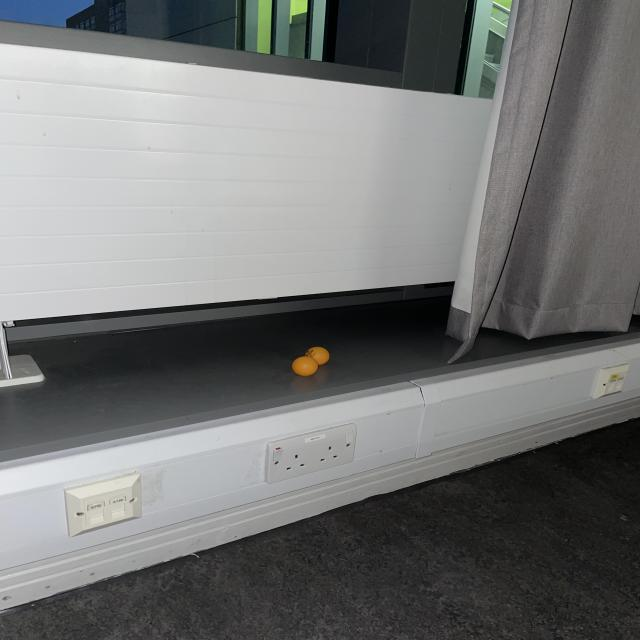oball: (305, 345, 330, 365), (290, 358, 318, 375)
